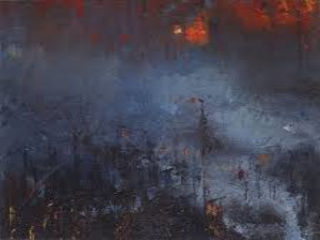fire: (170, 20, 216, 46)
